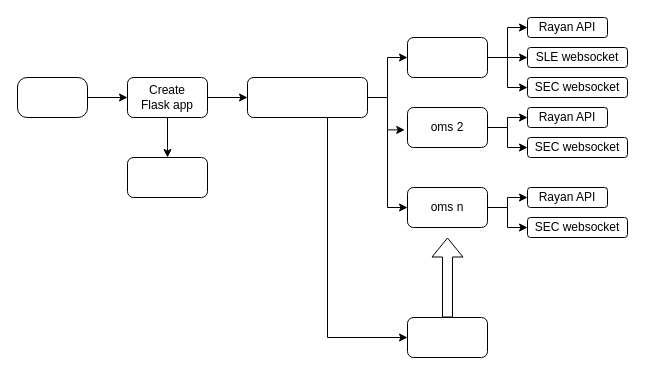
Some shapes in this 645 by 375 pixel diagram are drawn without their labels. Each missing label, with the centre of its shape:
AppSchaduler: point (307, 97)
Monitoring Thread: point (447, 337)
oms driver init: point (52, 97)
oms1: point (447, 57)
Start Flask app: point (167, 177)
